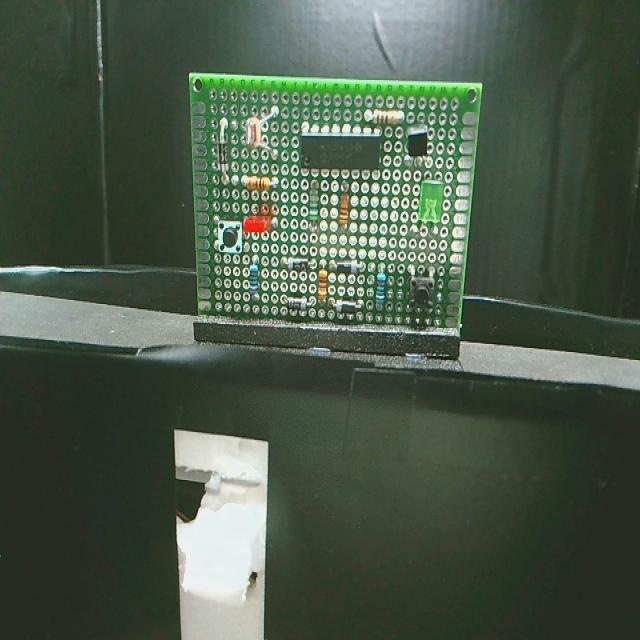IC: (298, 127, 381, 178)
cds: (246, 116, 260, 148)
diode: (276, 245, 311, 279), (214, 139, 237, 174), (334, 297, 365, 317), (284, 292, 308, 316), (332, 260, 362, 276)
led: (418, 168, 443, 224), (244, 207, 272, 241)
resistor: (243, 261, 267, 300), (370, 265, 387, 313), (332, 196, 352, 233), (315, 266, 329, 312), (243, 174, 271, 194), (369, 107, 403, 123), (306, 184, 318, 225)
switch: (405, 270, 437, 312), (214, 217, 245, 255)
transistor: (405, 130, 433, 159)
